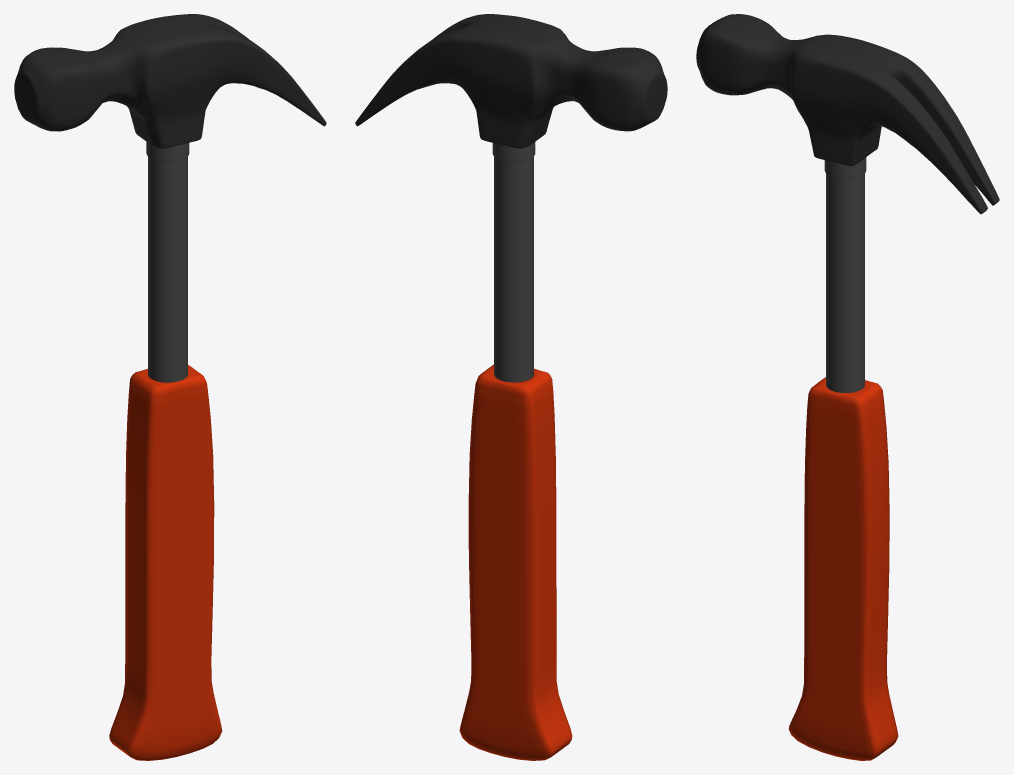
File: Hammer.FBX
3 views of the same model, side by side, from view 1: azimuth 30°, elevation 25°; view 2: azimuth 150°, elevation 25°; view 3: azimuth 330°, elevation 25° (orthographic). The views are drawn at different scales.
Parts seen in each view (by area): view 1: Plane002, Group1, tube, tube002; view 2: Plane002, Group1, tube, tube002; view 3: Plane002, Group1, tube, tube002.
Boxes of the visible parts, x1=… form: Plane002: x1=109, y1=365, x2=222, y2=760; Group1: x1=14, y1=14, x2=326, y2=148; tube: x1=148, y1=156, x2=187, y2=382; tube002: x1=146, y1=142, x2=189, y2=162; Plane002: x1=459, y1=364, x2=572, y2=760; Group1: x1=355, y1=14, x2=667, y2=148; tube: x1=494, y1=156, x2=533, y2=382; tube002: x1=492, y1=142, x2=535, y2=162; Plane002: x1=788, y1=377, x2=898, y2=760; Group1: x1=696, y1=14, x2=999, y2=214; tube: x1=826, y1=173, x2=864, y2=392; tube002: x1=824, y1=157, x2=866, y2=178.
Bounding box in the file's own units: 709 × 1670 × 154.
